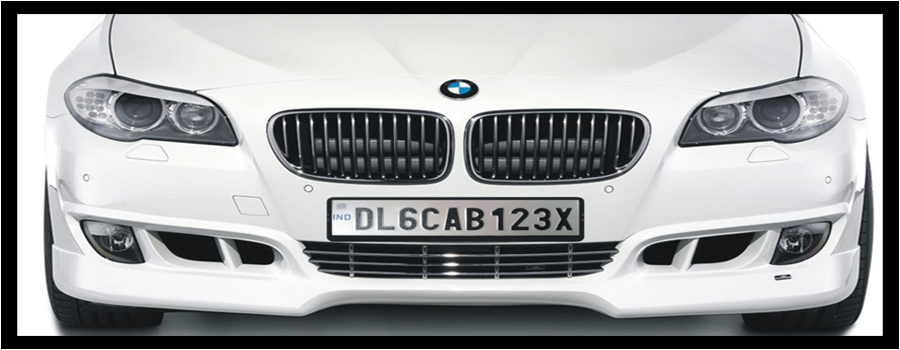number_plate: (326, 193, 585, 243)
